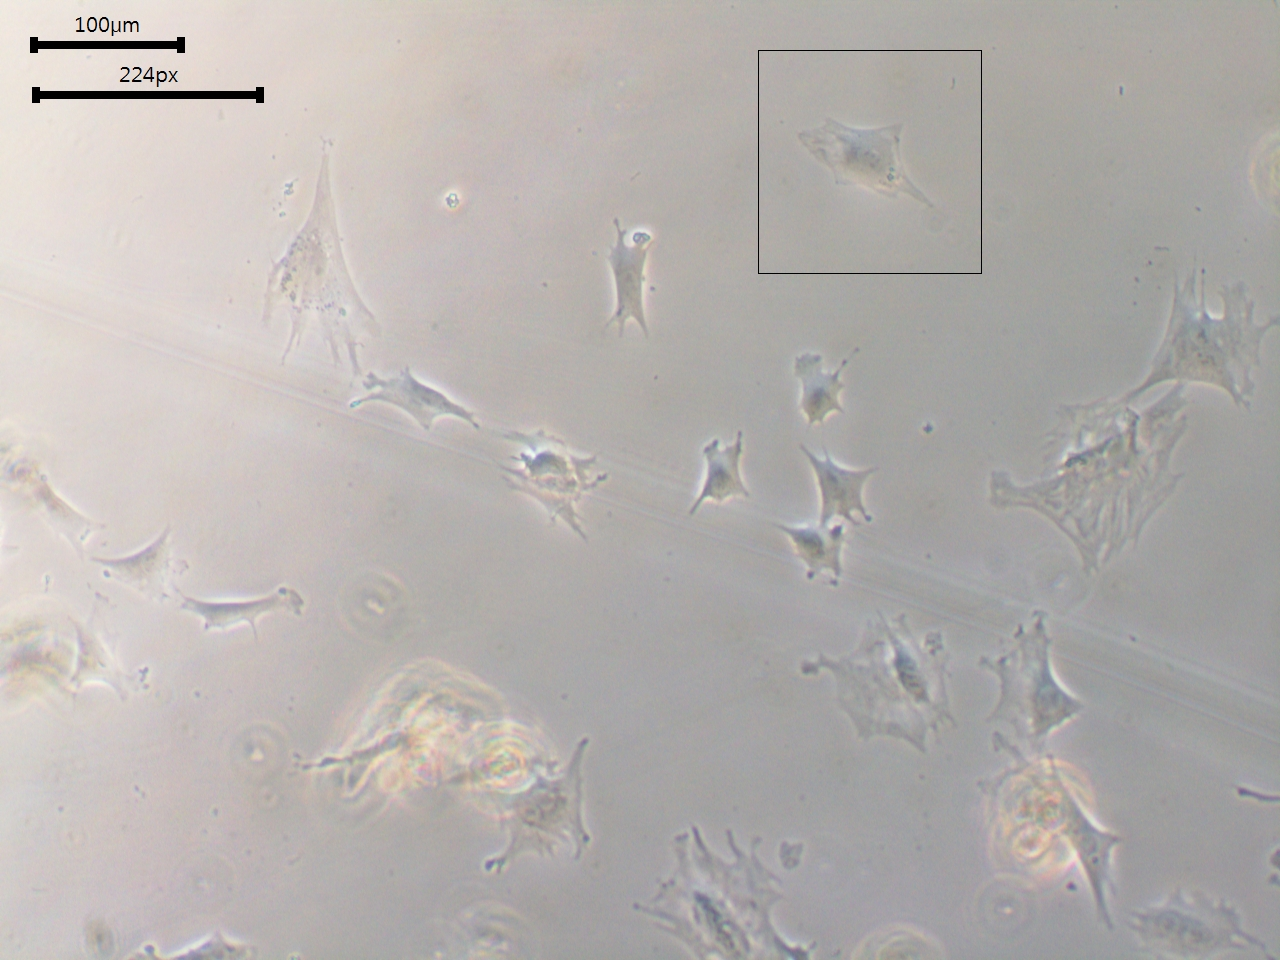dividing: (472, 733, 607, 877), (1130, 876, 1273, 960)
large-spread: (974, 389, 1206, 575)
medium-polygonal: (247, 133, 393, 370), (784, 603, 982, 756), (796, 109, 963, 224), (978, 605, 1096, 747), (340, 362, 479, 434)
medium-spread: (1119, 259, 1279, 410)
small-polygonal: (589, 216, 663, 347), (91, 530, 189, 610), (686, 427, 762, 530), (801, 437, 884, 529), (780, 344, 865, 429), (172, 585, 313, 633), (772, 516, 863, 589)
